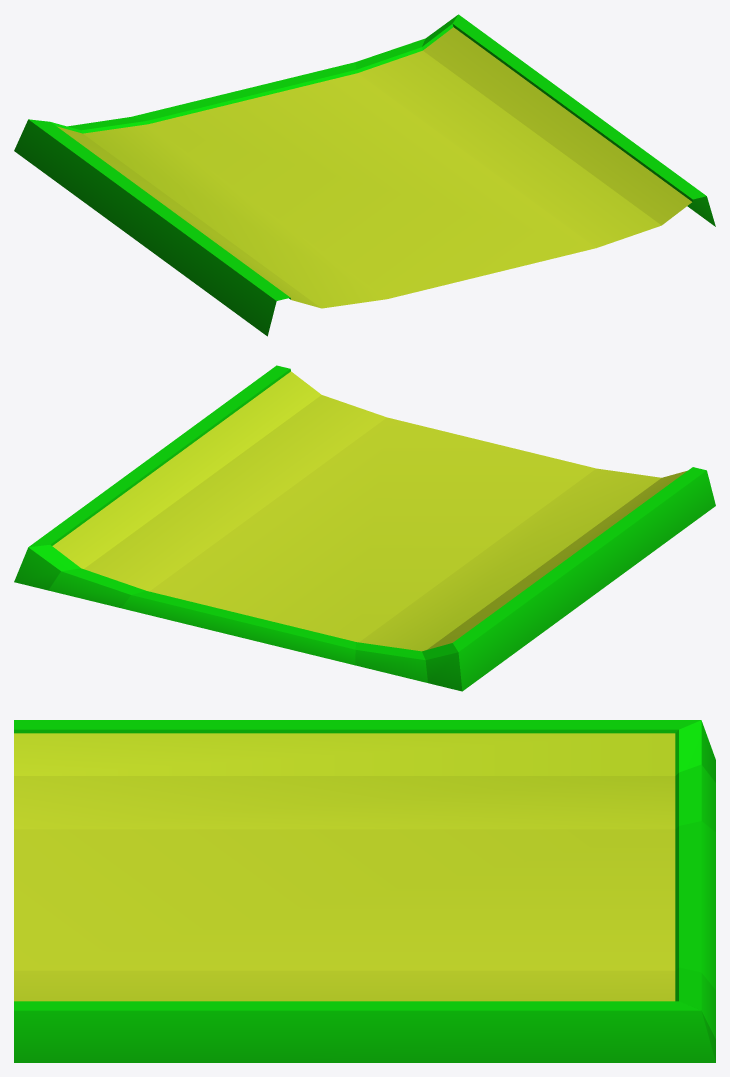
Rendered from sm_speed_platform_corner.fbx.
3 renders of one model, top to bottom at view 1: azimuth 30°, elevation 25°; view 2: azimuth 150°, elevation 25°; view 3: azimuth 270°, elevation 25°, orthographic. The views are drawn at different scales.
Parts seen in each view (by area): view 1: sm_speed_platform_corner; view 2: sm_speed_platform_corner; view 3: sm_speed_platform_corner.
Boxes of the visible parts, box(x1,y1,x2,y2) form: sm_speed_platform_corner: box(14, 14, 715, 336); sm_speed_platform_corner: box(14, 365, 715, 691); sm_speed_platform_corner: box(14, 720, 715, 1062).
Bounding box in the file's own units: 14.79 × 208 × 204.
